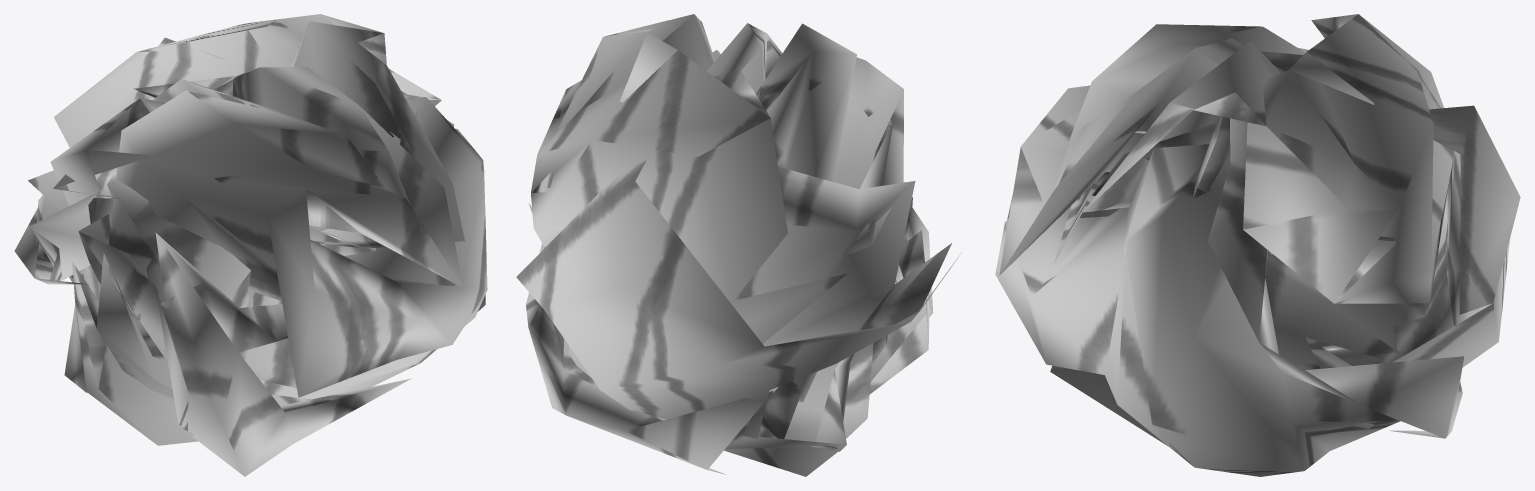
File: PaperTrash.fbx
3 views of the same model, side by side, from view 1: azimuth 30°, elevation 25°; view 2: azimuth 150°, elevation 25°; view 3: azimuth 270°, elevation 25° (orthographic). The views are drawn at different scales.
Parts seen in each view (by area): view 1: Plane; view 2: Plane; view 3: Plane.
Boxes of the visible parts, box(x1,y1,x2,y2) form: Plane: box(14, 14, 487, 476); Plane: box(516, 14, 960, 476); Plane: box(995, 14, 1520, 476).
Bounding box in the file's own units: 3.97 × 3.96 × 4.18.
Materials: 1 (1 with a texture image).
